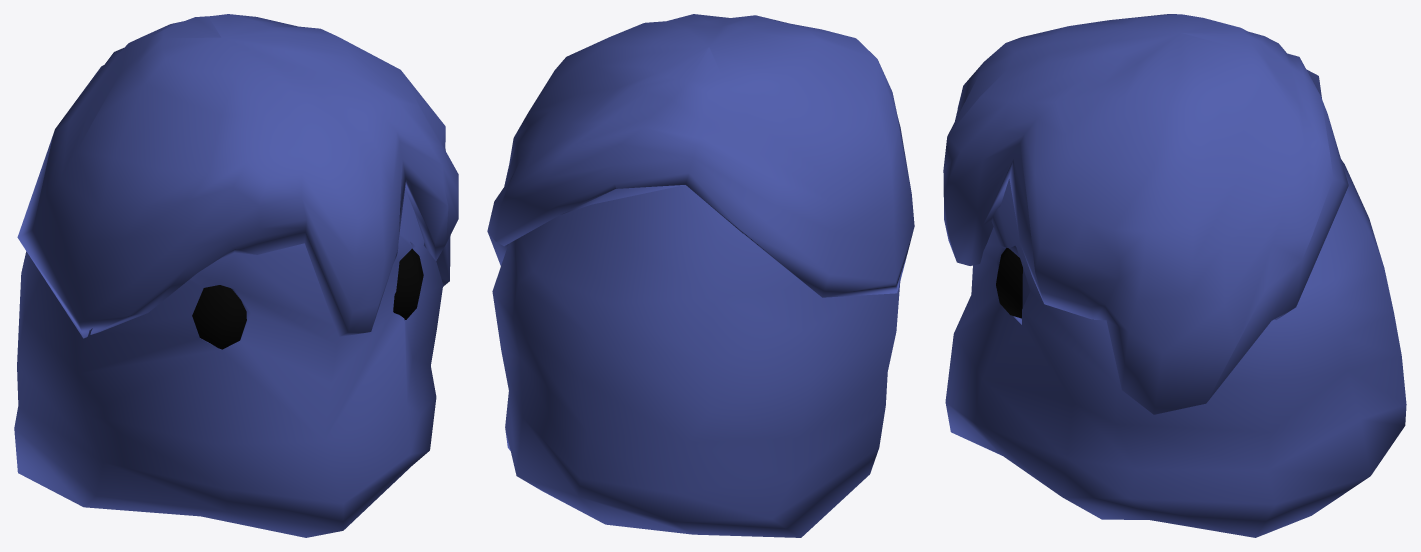
The model's file is inky_bake_land.fbx.
3 views of the same model, side by side, from view 1: azimuth 30°, elevation 25°; view 2: azimuth 150°, elevation 25°; view 3: azimuth 270°, elevation 25° (orthographic). The views are drawn at different scales.
Visible parts, largest first — view 1: inky_land; view 2: inky_land; view 3: inky_land.
Boxes of the visible parts, x1,y1,x2,y2 form: inky_land: (14, 14, 458, 537); inky_land: (487, 14, 914, 537); inky_land: (943, 14, 1406, 537).
Size of the model in its own units: 70.17 by 82.44 by 76.32.
1 material, 1 textured.
